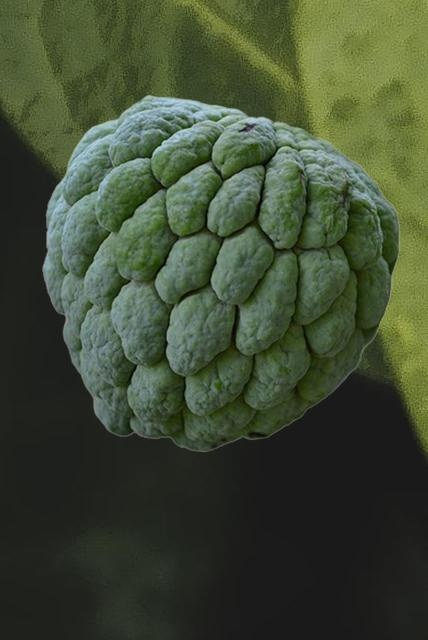atis: (42, 95, 399, 450)
